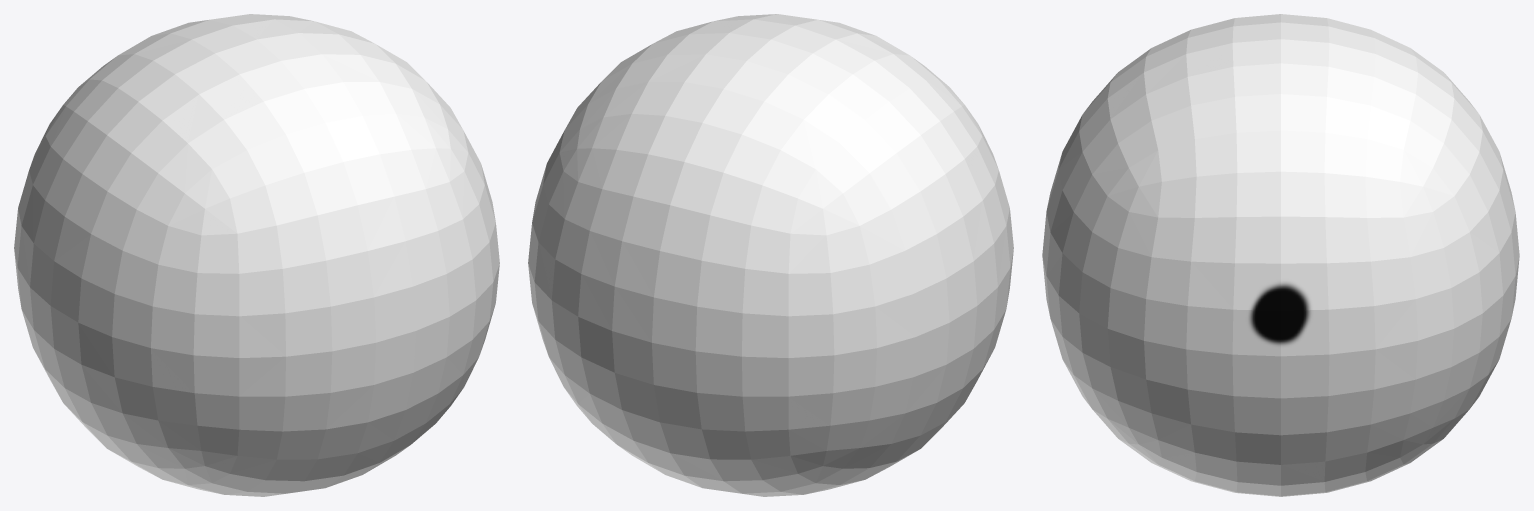
Rendered from eye1.obj.
3 views of the same model, side by side, from view 1: azimuth 30°, elevation 25°; view 2: azimuth 150°, elevation 25°; view 3: azimuth 270°, elevation 25° (orthographic).
Visible parts, largest first — view 1: eye1_Cube.001; view 2: eye1_Cube.001; view 3: eye1_Cube.001.
Boxes of the visible parts, left/top/right/bottom form: eye1_Cube.001: left=14, top=14, right=499, bottom=496; eye1_Cube.001: left=528, top=14, right=1013, bottom=496; eye1_Cube.001: left=1042, top=14, right=1519, bottom=496.
Bounding box in the file's own units: 0.6048 × 0.6048 × 0.6048.
Materials: 1 (1 with a texture image).
